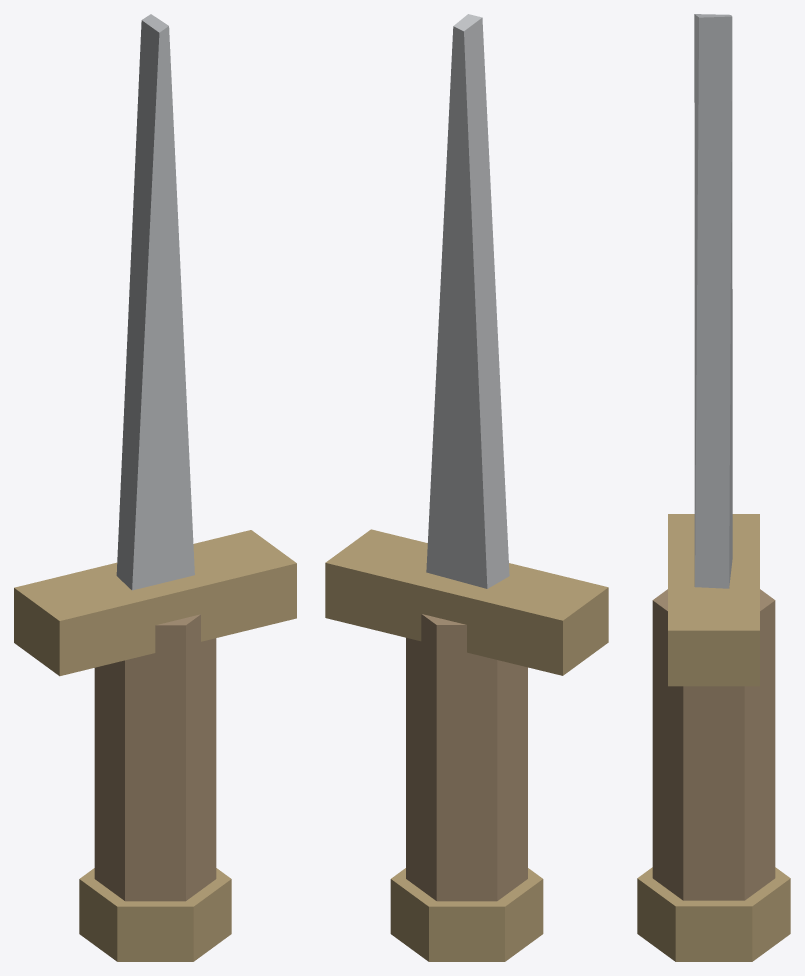
Rendered from longblade.glb.
3 renders of one model, left to right at view 1: azimuth 30°, elevation 25°; view 2: azimuth 150°, elevation 25°; view 3: azimuth 270°, elevation 25°, orthographic.
Visible parts, largest first — view 1: longblade; view 2: longblade; view 3: longblade.
Part boxes in pixels (x1,y1,x2,y2): longblade: [14, 14, 296, 961]; longblade: [325, 14, 608, 961]; longblade: [637, 14, 790, 961].
Size of the model in its own units: 0.18 by 0.6614 by 0.1.
